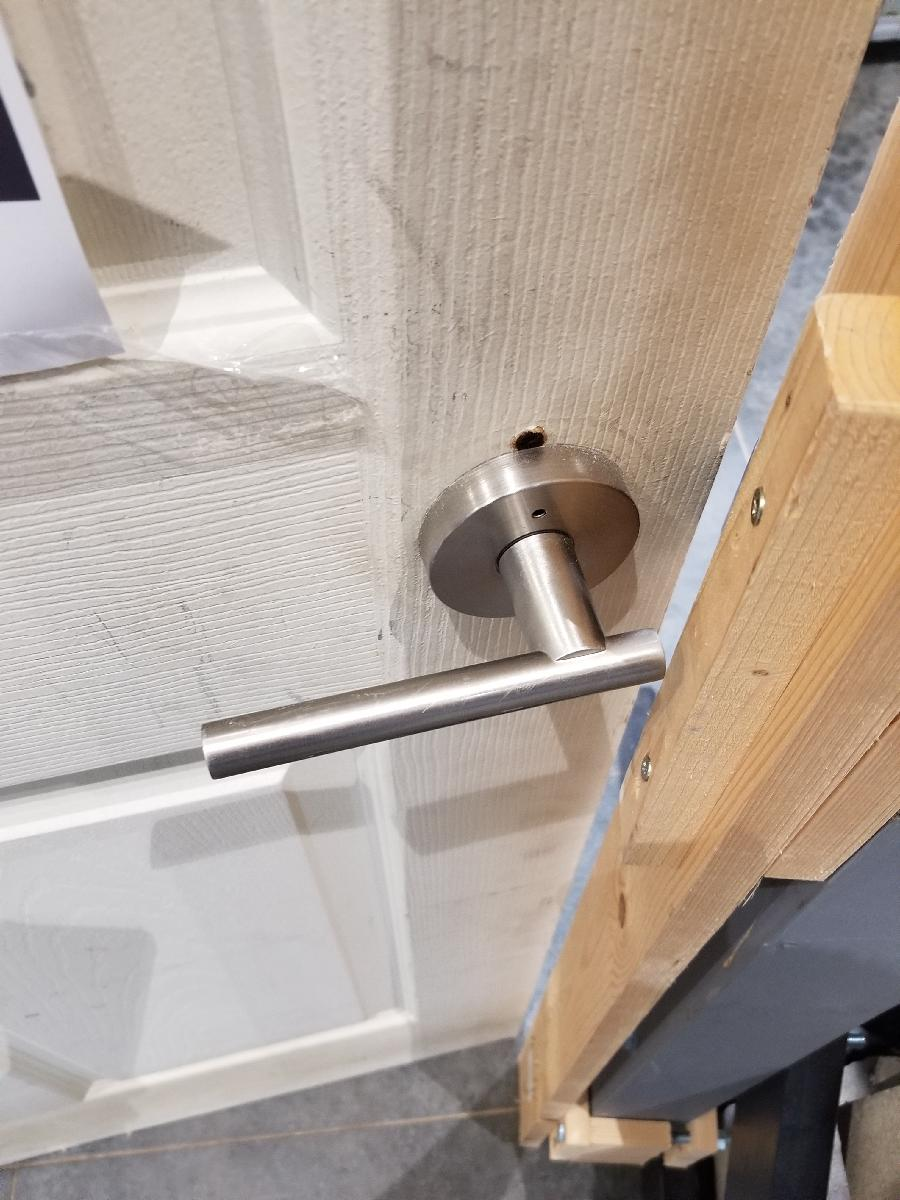doorHandle: (191, 422, 676, 793)
